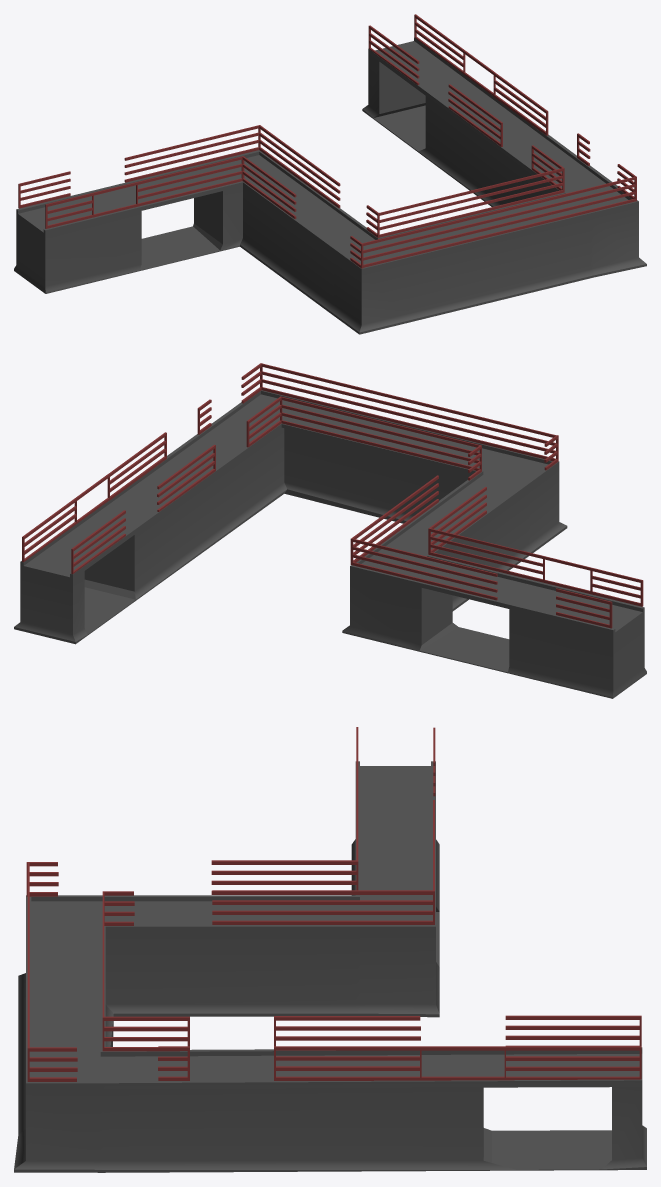
Rendered from LVL2_conveyor_hole.fbx.
3 renders of one model, top to bottom at view 1: azimuth 30°, elevation 25°; view 2: azimuth 150°, elevation 25°; view 3: azimuth 270°, elevation 25°, orthographic. The views are drawn at different scales.
Parts seen in each view (by area): view 1: pCube75, polySurface111, polySurface112, polySurface108, polySurface114, polySurface102, polySurface103, polySurface104, polySurface113, polySurface88, polySurface116, polySurface115 (+1 smaller); view 2: pCube75, polySurface111, polySurface112, polySurface108, polySurface114, polySurface102, polySurface103, polySurface104, polySurface113, polySurface88, polySurface116, polySurface115 (+1 smaller); view 3: pCube75, polySurface112, polySurface102, polySurface103, polySurface88, polySurface113, polySurface104, polySurface107, polySurface105, polySurface106, polySurface110, polySurface109.
Part boxes in pixels (x1,y1,x2,y2): pCube75: (14,38,646,334); polySurface111: (361,177,635,267); polySurface112: (124,125,340,207); polySurface108: (378,168,564,237); polySurface114: (92,156,243,217); polySurface102: (414,14,495,96); polySurface103: (493,72,548,135); polySurface104: (448,84,502,146); polySurface113: (242,156,296,218); polySurface88: (368,25,419,84); polySurface116: (18,171,70,208); polySurface115: (45,193,92,228); pCube75: (14,390,646,698); polySurface111: (261,363,557,460); polySurface112: (350,475,497,600); polySurface108: (280,396,480,470); polySurface114: (430,528,592,594); polySurface102: (22,474,109,562); polySurface103: (108,432,166,499); polySurface104: (157,444,215,511); polySurface113: (428,487,486,554); polySurface88: (71,510,125,574); polySurface116: (556,588,612,628); polySurface115: (591,568,643,606); pCube75: (14,761,646,1172); polySurface112: (212,800,434,924); polySurface102: (420,1046,641,1080); polySurface103: (274,1046,420,1080); polySurface88: (505,1015,641,1046); polySurface113: (211,860,358,894); polySurface104: (274,1016,420,1046); polySurface107: (104,1016,189,1051); polySurface105: (27,1047,77,1081); polySurface106: (158,1046,189,1080); polySurface110: (26,862,58,896); polySurface109: (102,891,134,925).
Bounding box in the file's own units: 50.12 × 8.74 × 41.2.
